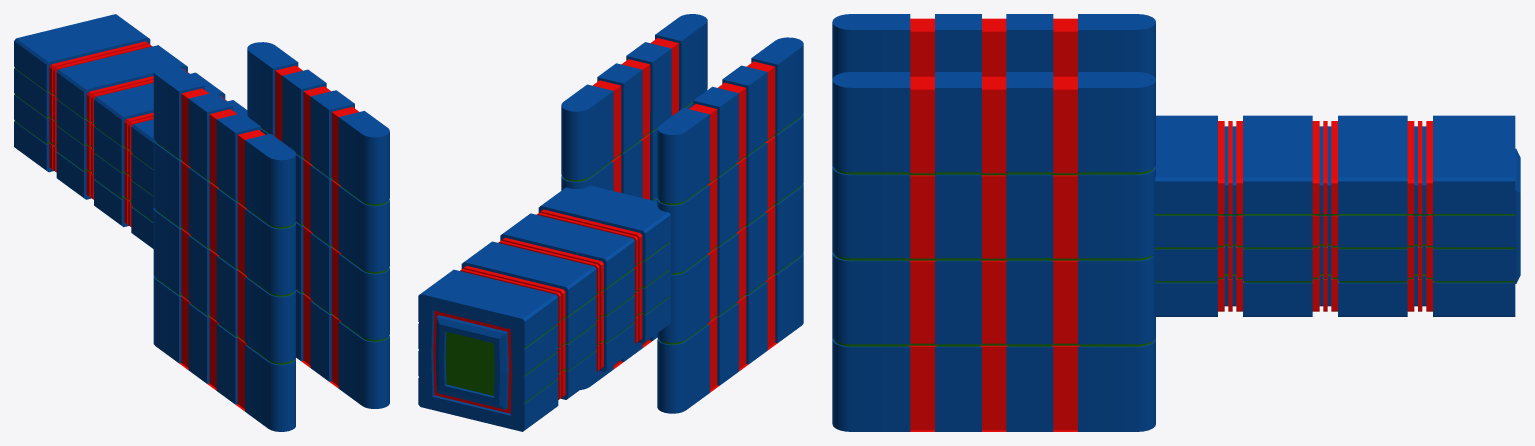
File: OBJ_Gros_Block_Centre.fbx
The picture shows the model from 3 angles, left to right: view 1: azimuth 30°, elevation 25°; view 2: azimuth 150°, elevation 25°; view 3: azimuth 270°, elevation 25°; orthographic projection. The views are drawn at different scales.
Parts seen in each view (by area): view 1: Box009; view 2: Box009; view 3: Box009.
Boxes of the visible parts, left/top/right/bottom form: Box009: left=14, top=14, right=389, bottom=431; Box009: left=418, top=14, right=803, bottom=431; Box009: left=832, top=14, right=1520, bottom=431.
Bounding box in the file's own units: 92.08 × 200 × 363.
